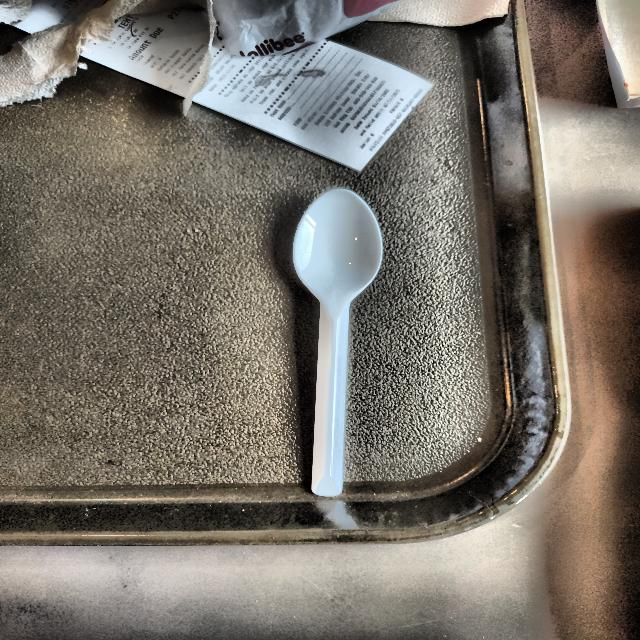plastic utensil: (293, 188, 383, 496)
